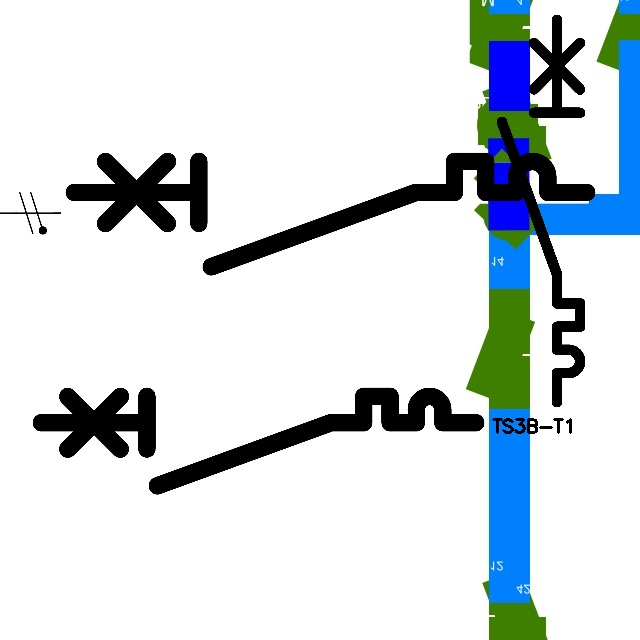interruptor_termomagnetico: (60, 148, 599, 280), (30, 385, 487, 497), (492, 10, 590, 412)
